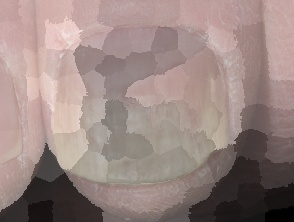Nail_psoriasis: (42, 73, 238, 200)
